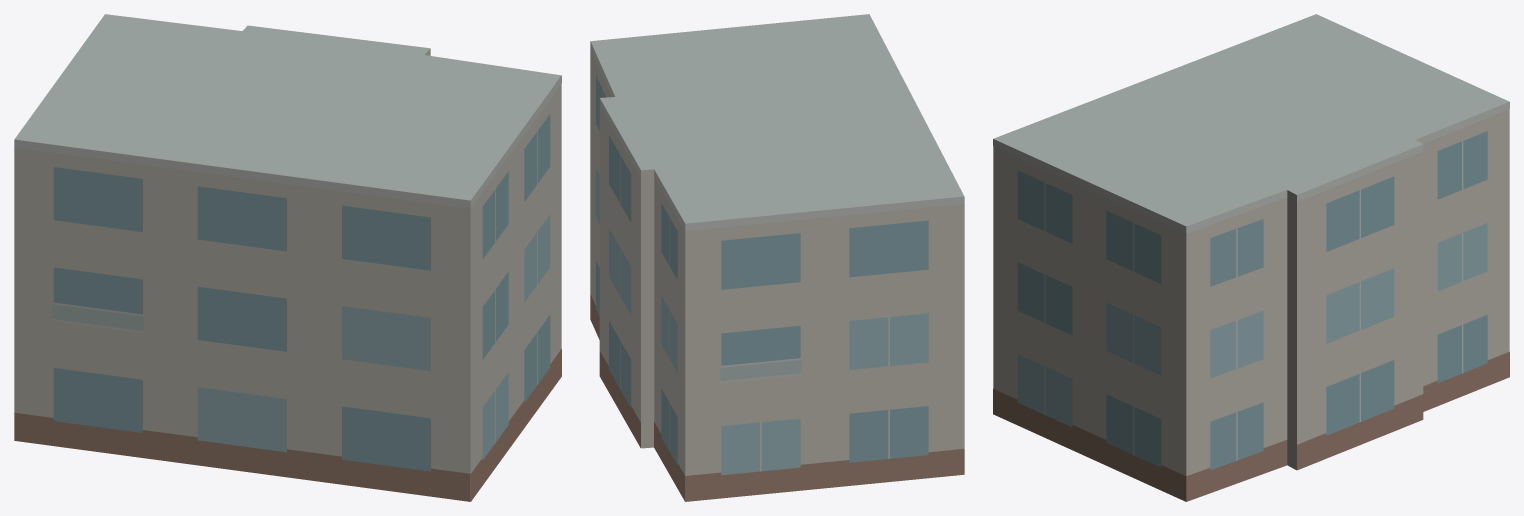
Rendered from survey-upis-32914933.glb.
The picture shows the model from 3 angles, left to right: view 1: azimuth 30°, elevation 25°; view 2: azimuth 150°, elevation 25°; view 3: azimuth 270°, elevation 25°; orthographic projection. The views are drawn at different scales.
Visible parts, largest first — view 1: survey-upis-32914933.tmp; view 2: survey-upis-32914933.tmp; view 3: survey-upis-32914933.tmp.
Part boxes in pixels (bbox=[...]): survey-upis-32914933.tmp: bbox=[14, 14, 561, 501]; survey-upis-32914933.tmp: bbox=[590, 14, 964, 501]; survey-upis-32914933.tmp: bbox=[993, 14, 1509, 501].
Size of the model in its own units: 15.15 by 9.15 by 15.56.
